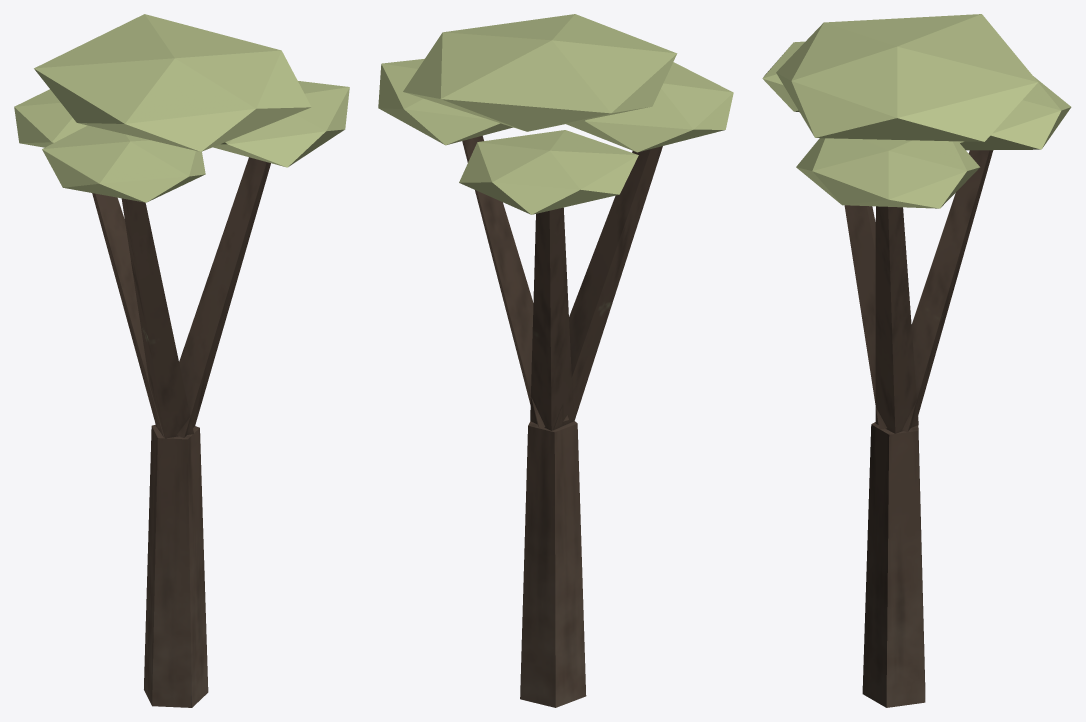
Rendered from arv_acacia_6.glb.
3 renders of one model, left to right at view 1: azimuth 30°, elevation 25°; view 2: azimuth 150°, elevation 25°; view 3: azimuth 270°, elevation 25°, orthographic. The views are drawn at different scales.
Parts seen in each view (by area): view 1: arv_acacia_6; view 2: arv_acacia_6; view 3: arv_acacia_6.
Part boxes in pixels (x1,y1,x2,y2): arv_acacia_6: [14, 14, 349, 707]; arv_acacia_6: [378, 14, 733, 707]; arv_acacia_6: [762, 14, 1071, 707].
Size of the model in its own units: 0.844 by 1.65 by 0.7137.
Materials: 2 (1 with a texture image).
